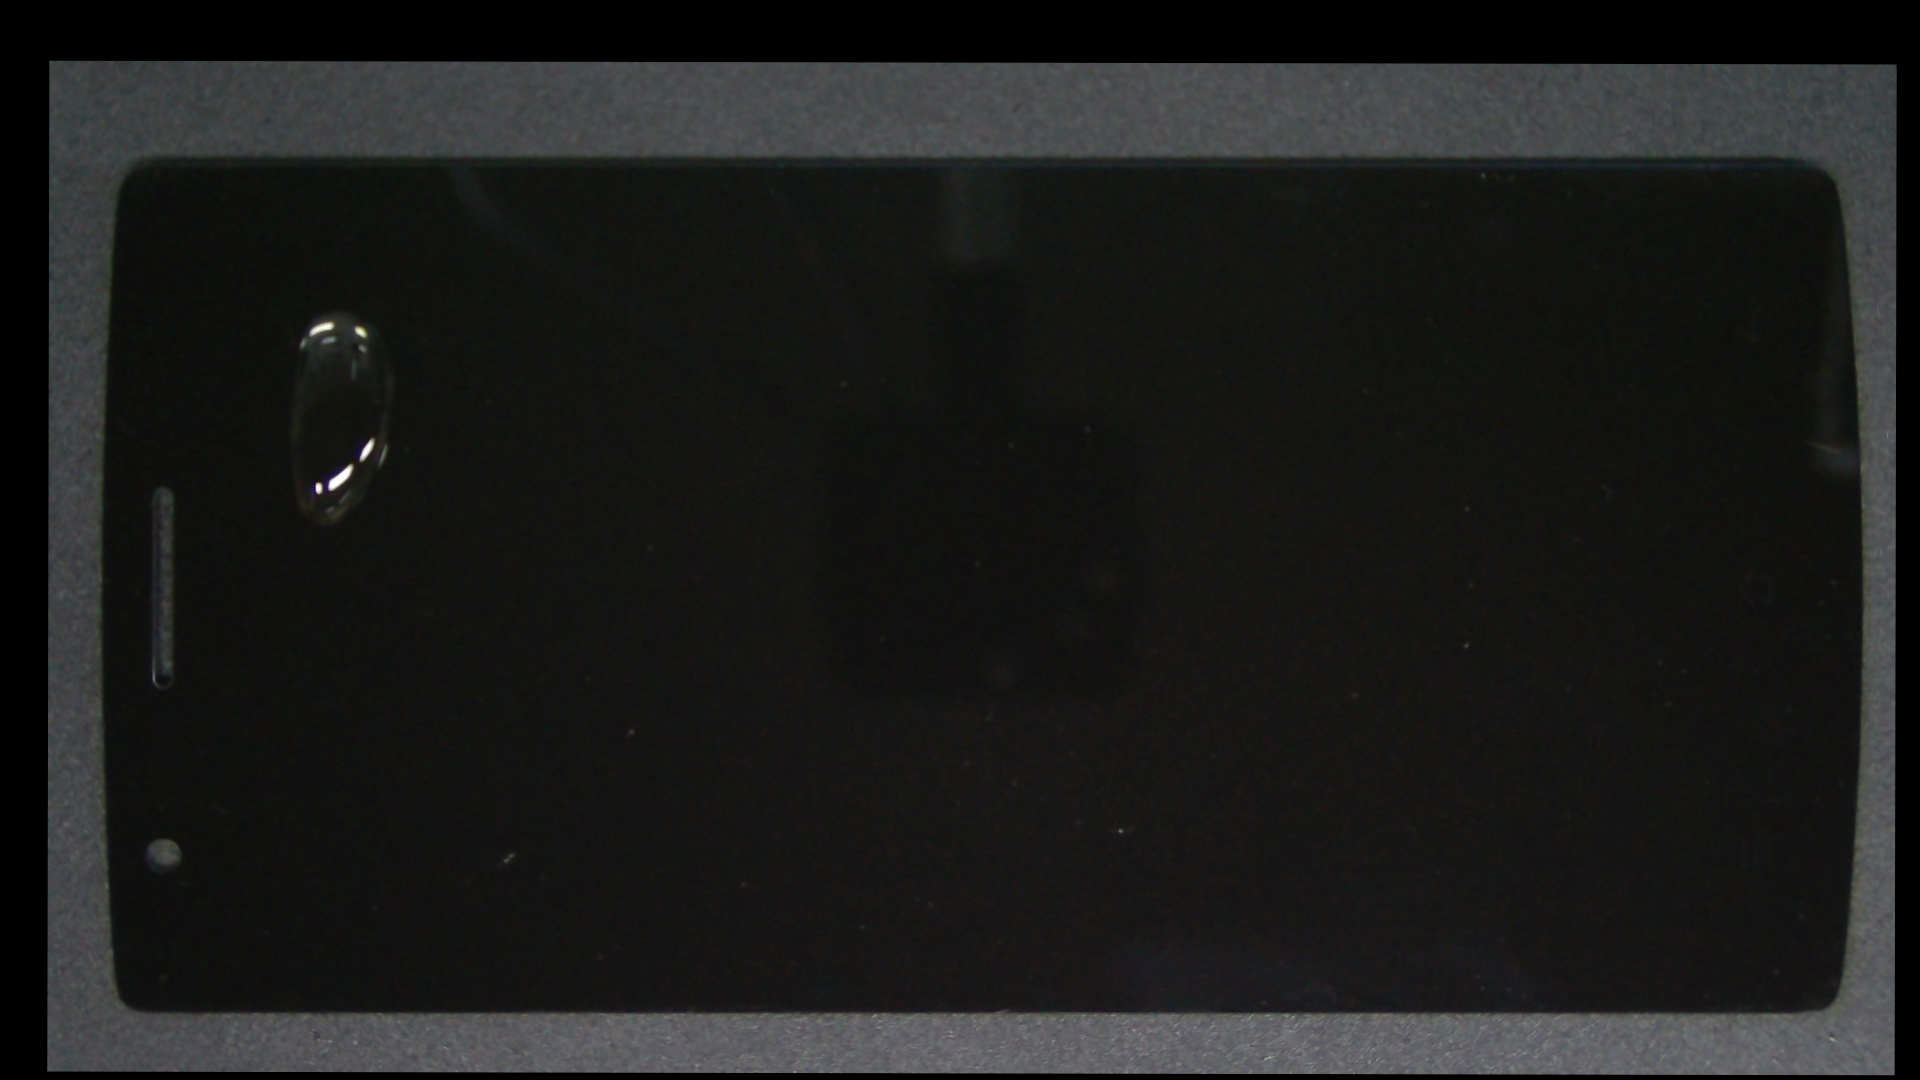oil: (193, 186, 480, 438)
